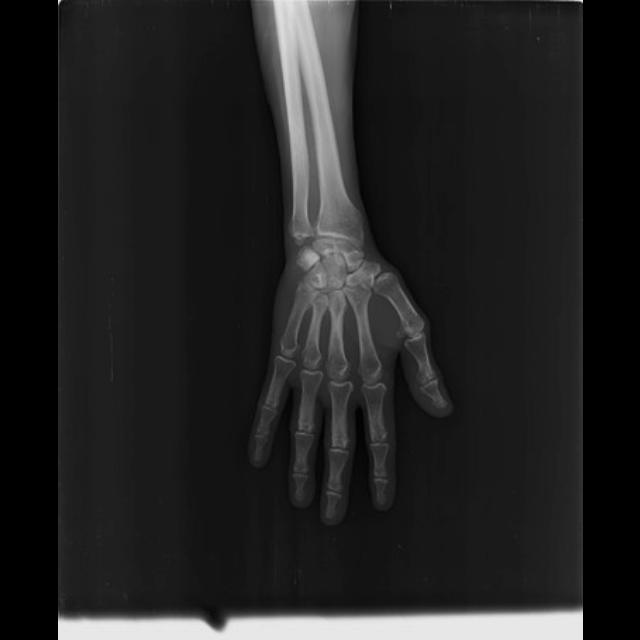Fracture: (311, 206, 367, 252)
